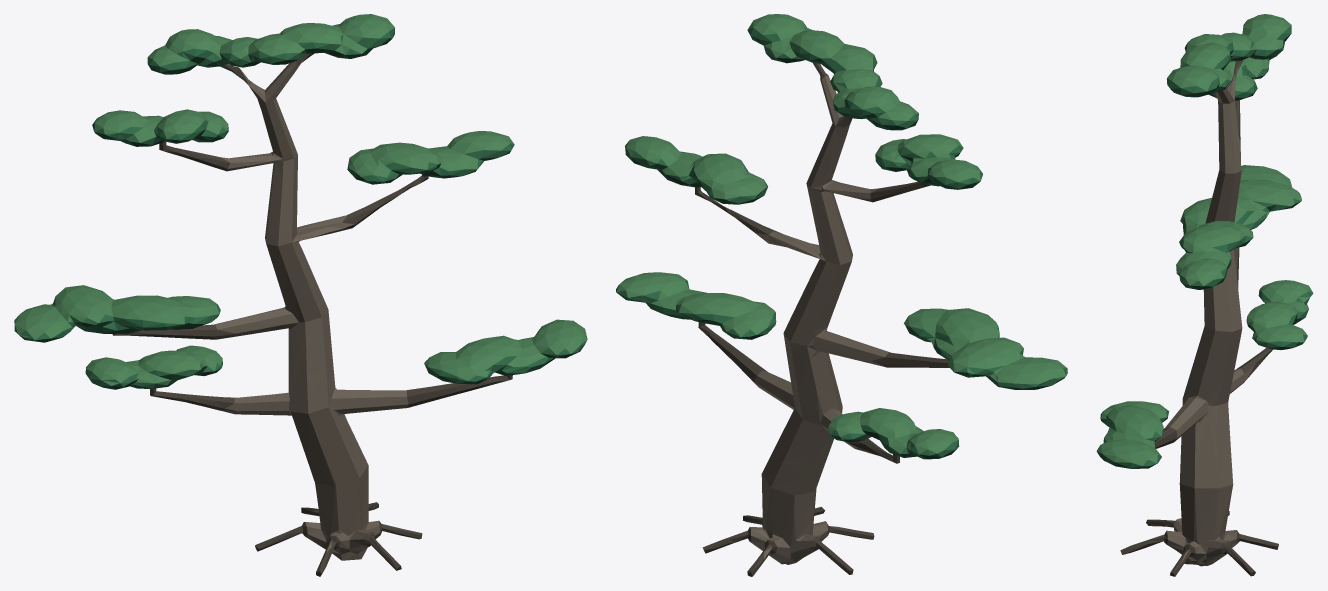
Rendered from ancient-pine-2162-lod0.glb.
The picture shows the model from 3 angles, left to right: view 1: azimuth 30°, elevation 25°; view 2: azimuth 150°, elevation 25°; view 3: azimuth 270°, elevation 25°; orthographic projection. The views are drawn at different scales.
Visible parts, largest first — view 1: n8.004, n12.004, n11.004, n9.004, n10.004; view 2: n12.004, n8.004, n11.004, n9.004, n10.004; view 3: n8.004, n12.004, n11.004, n9.004, n10.004.
Part boxes in pixels (<box>): n8.004: <box>214,56,408,560</box>; n12.004: <box>14,14,587,385</box>; n11.004: <box>14,28,586,388</box>; n9.004: <box>112,53,512,576</box>; n10.004: <box>15,38,585,389</box>; n12.004: <box>616,14,1067,454</box>; n8.004: <box>750,75,890,564</box>; n11.004: <box>616,27,1067,456</box>; n9.004: <box>695,63,949,576</box>; n10.004: <box>617,32,1064,459</box>; n8.004: <box>1164,61,1255,566</box>; n12.004: <box>1097,14,1312,465</box>; n11.004: <box>1097,21,1312,468</box>; n9.004: <box>1120,60,1278,576</box>; n10.004: <box>1100,34,1307,468</box>.
Bounding box in the file's own units: 5.33 × 5.41 × 2.12.
